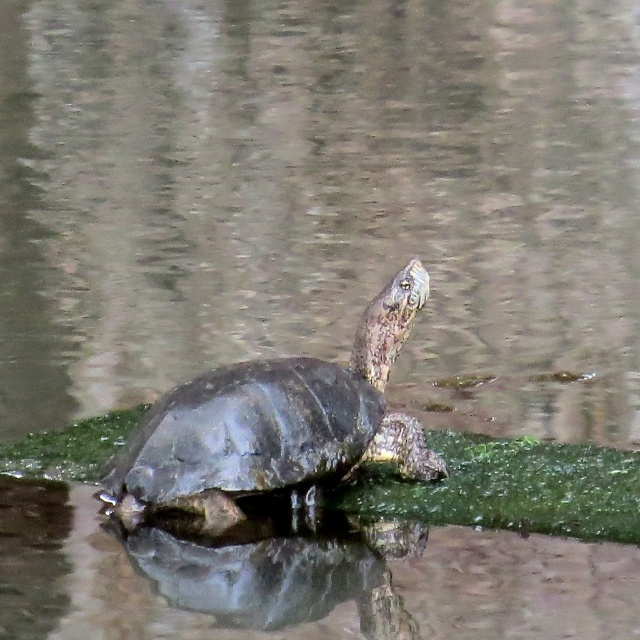Sea turtle: (102, 258, 444, 556)
